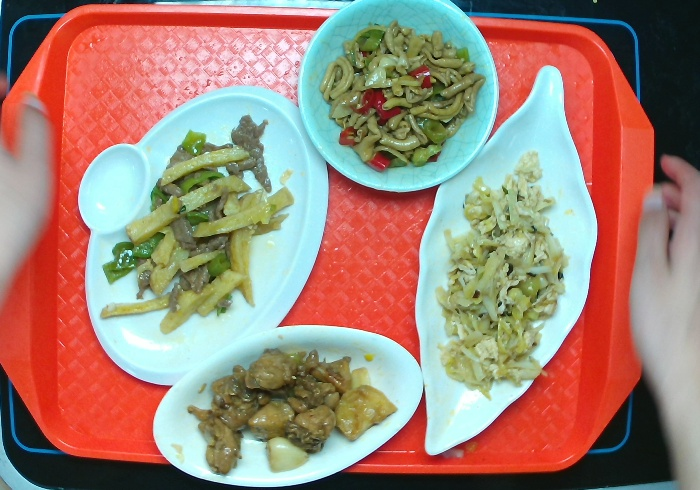RJxy-Bai_Se_Tuo_Yuan: (150, 320, 429, 490)
RJxy-Shu_Ye_Pan: (418, 60, 598, 463)
RJxy-Xiao_Jiao_Yuan_Wan: (296, 1, 502, 202)
RJxy-Zhan_Liao_Pan: (80, 86, 331, 390)
